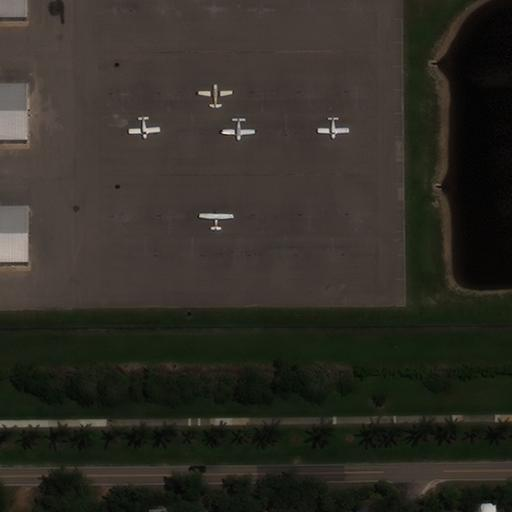Small Civil Transport: (197, 84, 232, 109), (222, 117, 254, 141), (128, 115, 159, 139), (317, 115, 348, 139), (199, 209, 232, 231)
